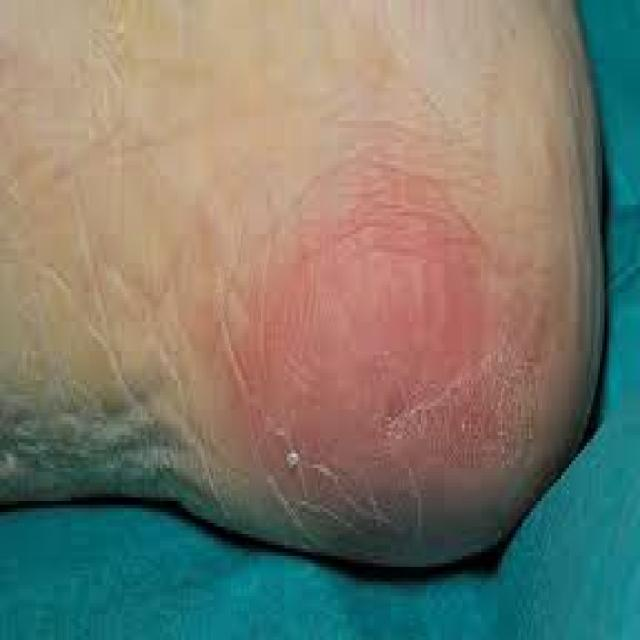stage-1: (240, 170, 492, 521)
